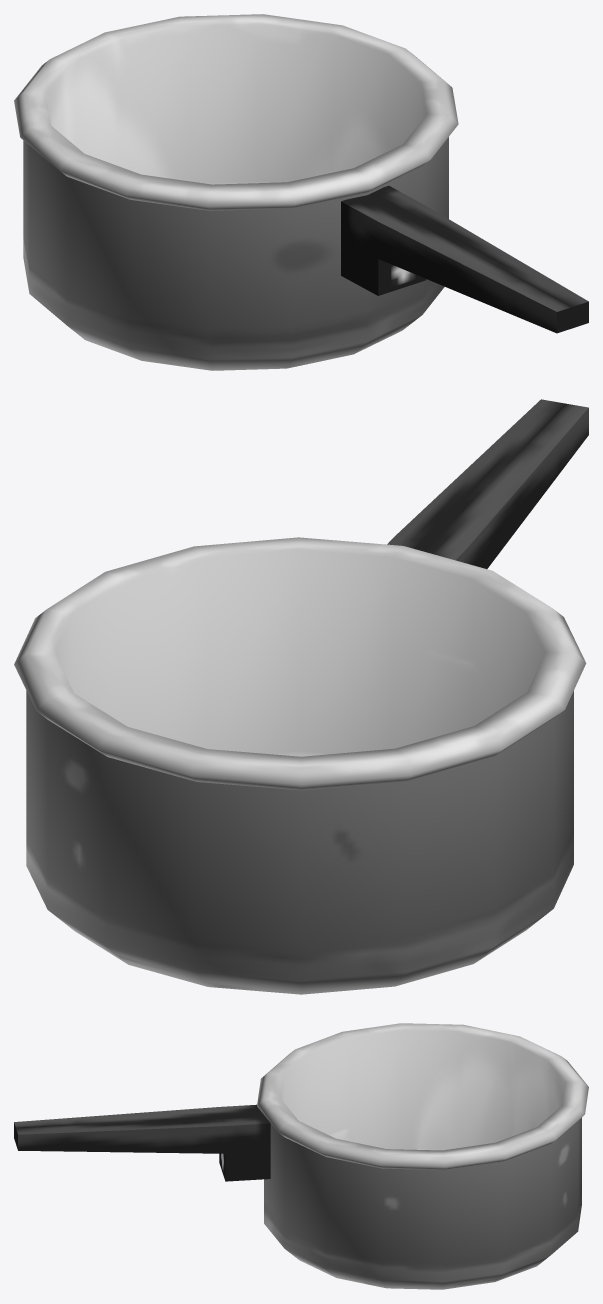
File: obj_SaucePan.fbx
3 views of the same model, one above another, from view 1: azimuth 30°, elevation 25°; view 2: azimuth 150°, elevation 25°; view 3: azimuth 270°, elevation 25° (orthographic). The views are drawn at different scales.
Visible parts, largest first — view 1: obj_SaucePan; view 2: obj_SaucePan; view 3: obj_SaucePan.
Boxes of the visible parts, <box> form: obj_SaucePan: <box>14,14,588,370</box>; obj_SaucePan: <box>14,399,588,994</box>; obj_SaucePan: <box>14,1023,588,1289</box>.
Bounding box in the file's own units: 0.2127 × 0.0986 × 0.3683.
